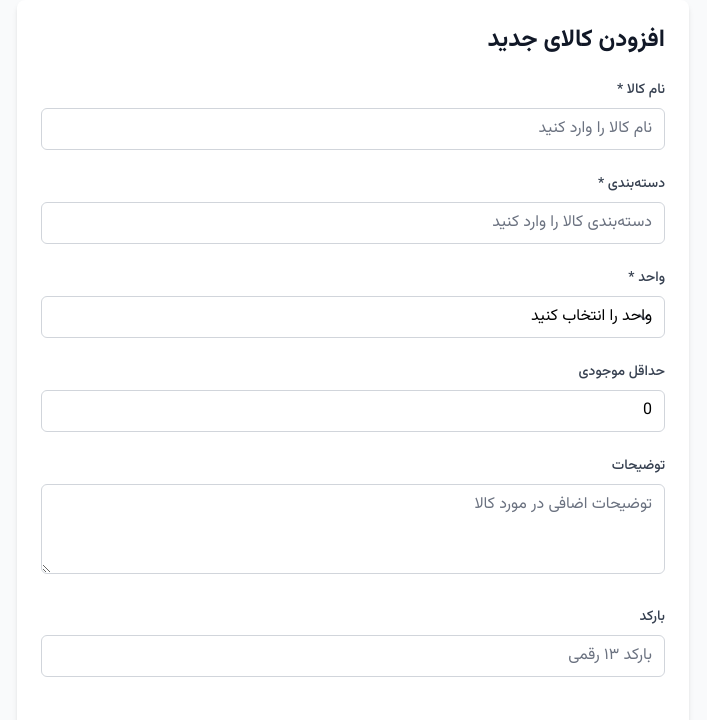
Scenario: ItemForm Component › Create Mode › should validate barcode format
Type "12345" into the field labelled "بارکد".
click(353, 656); type("12345")  # box [41,635,665,677]
(page scrolled)
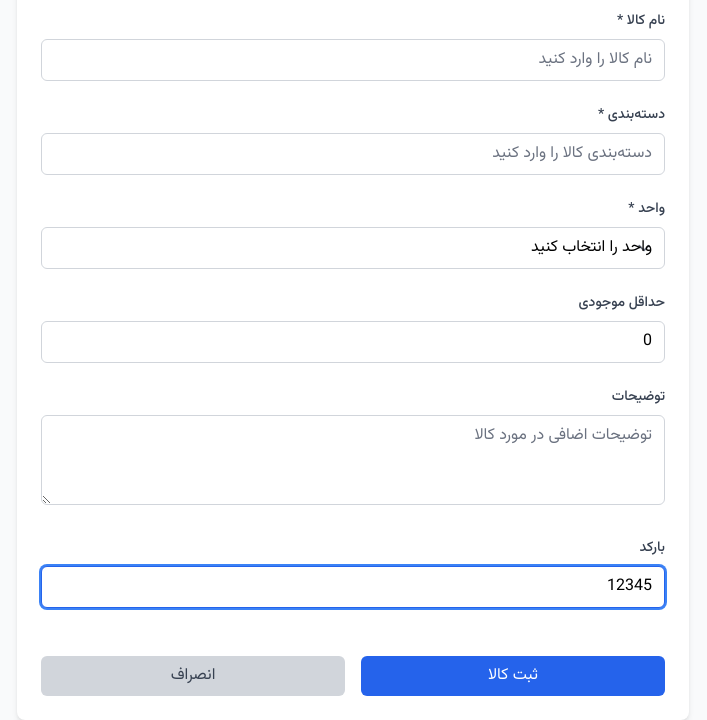
Click the button "ثبت کالا".
click(513, 676)  # box [361,656,665,696]
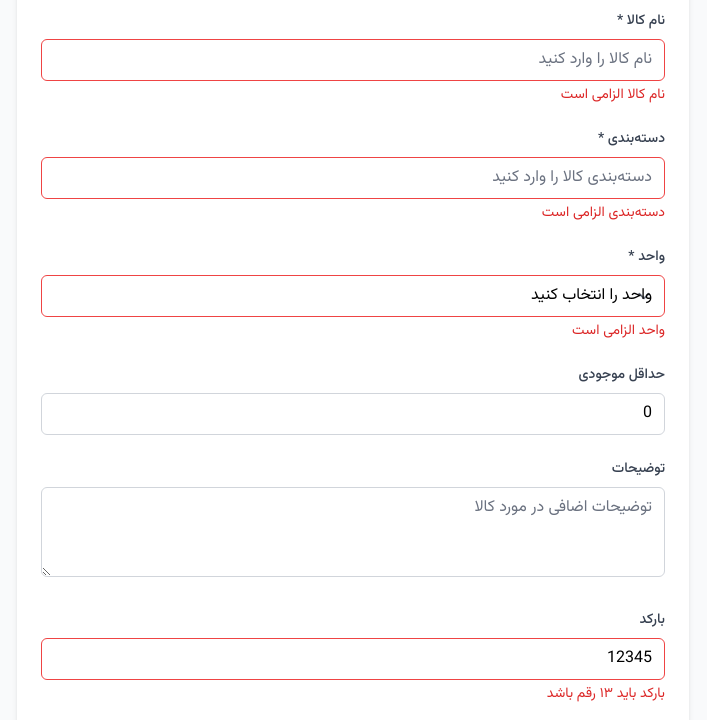
Now the text "بارکد باید ۱۳ رقم باشد" is shown, box [547,683,665,705]
